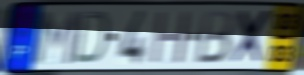4: (116, 9, 147, 67)
B: (193, 9, 237, 66)
D: (71, 10, 111, 66)
H: (148, 9, 193, 66)
M: (32, 9, 82, 67)
X: (230, 8, 275, 66)
